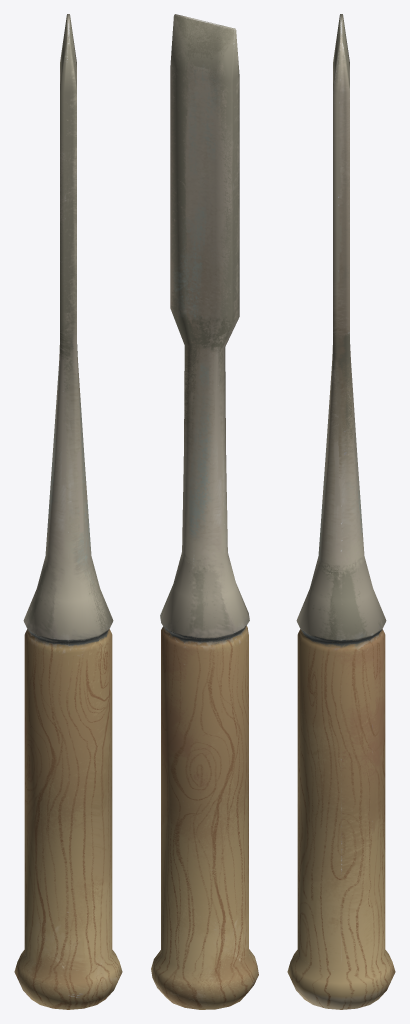
File: Chisel.fbx
The picture shows the model from 3 angles, left to right: view 1: azimuth 90°, elevation 25°; view 2: azimuth 150°, elevation 25°; view 3: azimuth 270°, elevation 25°; orthographic projection.
Parts seen in each view (by area): view 1: Chisel; view 2: Chisel; view 3: Chisel.
Part boxes in pixels (box(x1,y1,x2,y2)): Chisel: box(14, 14, 122, 1009); Chisel: box(151, 14, 258, 1009); Chisel: box(287, 14, 395, 1009).
Size of the model in its own units: 9.77 by 96.93 by 9.77.
Materials: 1 (1 with a texture image).
